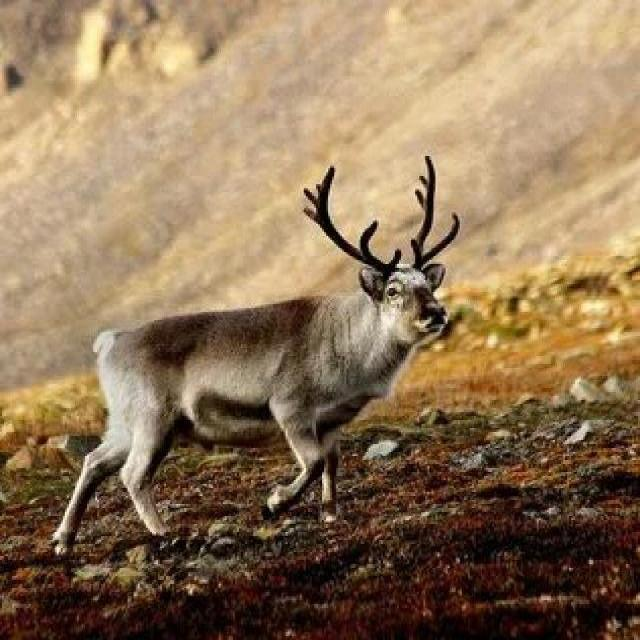deer: (26, 112, 499, 493)
